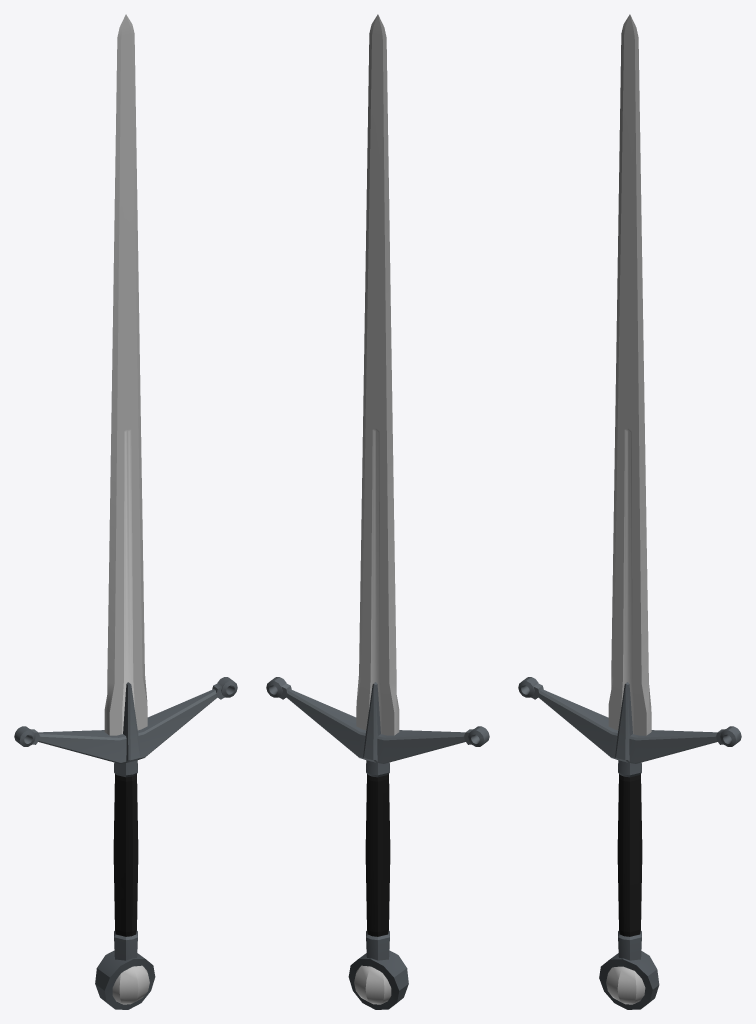
File: SM_Sword02_Claymore_3Silver.fbx
The picture shows the model from 3 angles, left to right: view 1: azimuth 30°, elevation 25°; view 2: azimuth 150°, elevation 25°; view 3: azimuth 330°, elevation 25°; orthographic projection.
Visible parts, largest first — view 1: Cube.318, Cube.319, Cylinder.393, Cylinder.394, Sphere.120, Cylinder.392; view 2: Cube.318, Cube.319, Cylinder.393, Cylinder.394, Sphere.120, Cylinder.392; view 3: Cube.318, Cube.319, Cylinder.393, Cylinder.394, Sphere.120, Cylinder.392.
Part boxes in pixels (box(x1,y1,x2,y2)): Cube.318: box(104, 14, 147, 735); Cube.319: box(38, 682, 217, 763); Cylinder.393: box(113, 760, 138, 960); Cylinder.394: box(95, 950, 155, 1009); Sphere.120: box(112, 965, 149, 1004); Cylinder.392: box(14, 677, 237, 746); Cube.318: box(356, 14, 399, 735); Cube.319: box(286, 682, 465, 763); Cylinder.393: box(365, 760, 390, 960); Cylinder.394: box(348, 950, 408, 1009); Sphere.120: box(354, 965, 391, 1004); Cylinder.392: box(266, 677, 489, 746); Cube.318: box(608, 14, 651, 735); Cube.319: box(538, 682, 717, 763); Cylinder.393: box(617, 760, 642, 960); Cylinder.394: box(599, 951, 659, 1009); Sphere.120: box(606, 966, 645, 1004); Cylinder.392: box(518, 677, 741, 746).
Bounding box in the file's own units: 0.2982 × 1.3 × 0.0587.
